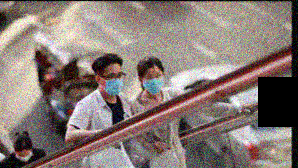with_mask: (100, 70, 125, 95), (141, 73, 165, 94), (14, 150, 33, 162)
